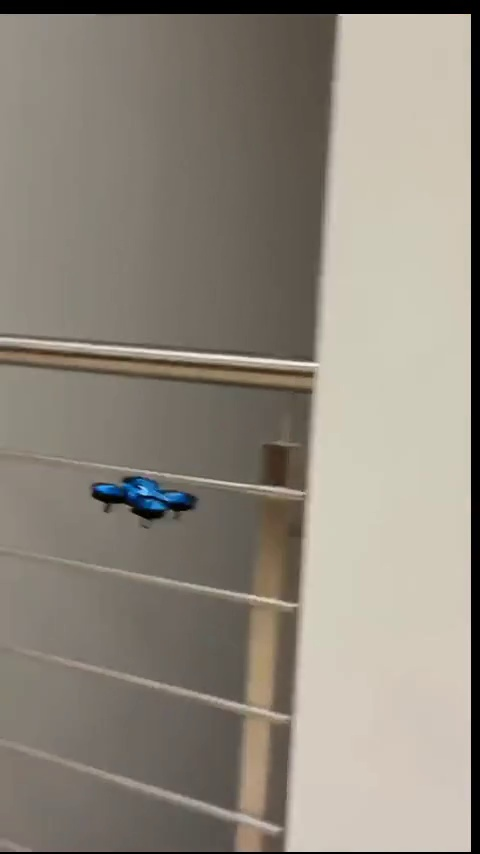drone: (95, 472, 197, 526)
